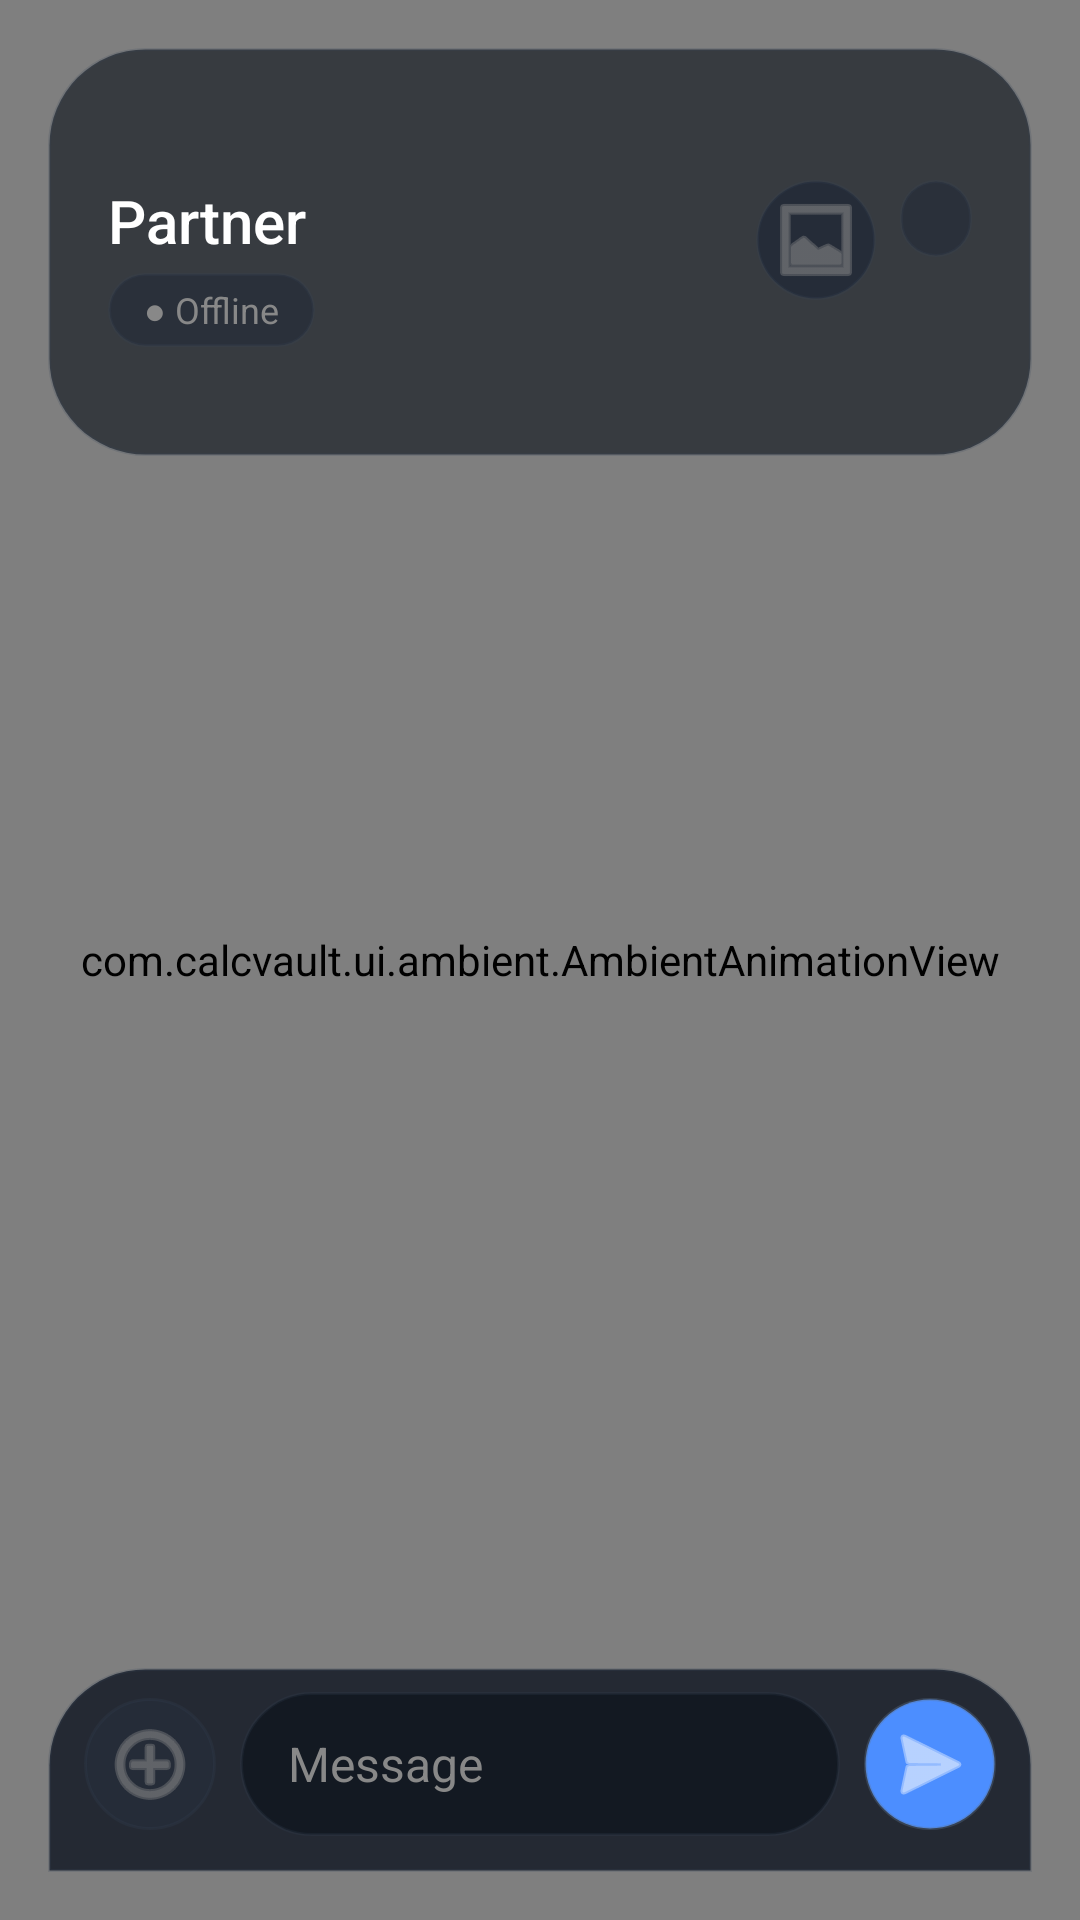

Icons on this 1080×1920 Android screen, each with the point to tap as (x=x, y=y):
Attach media: (x=150, y=1764)
